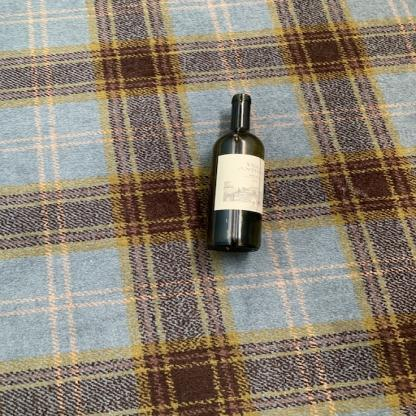trash: (204, 90, 270, 256)
